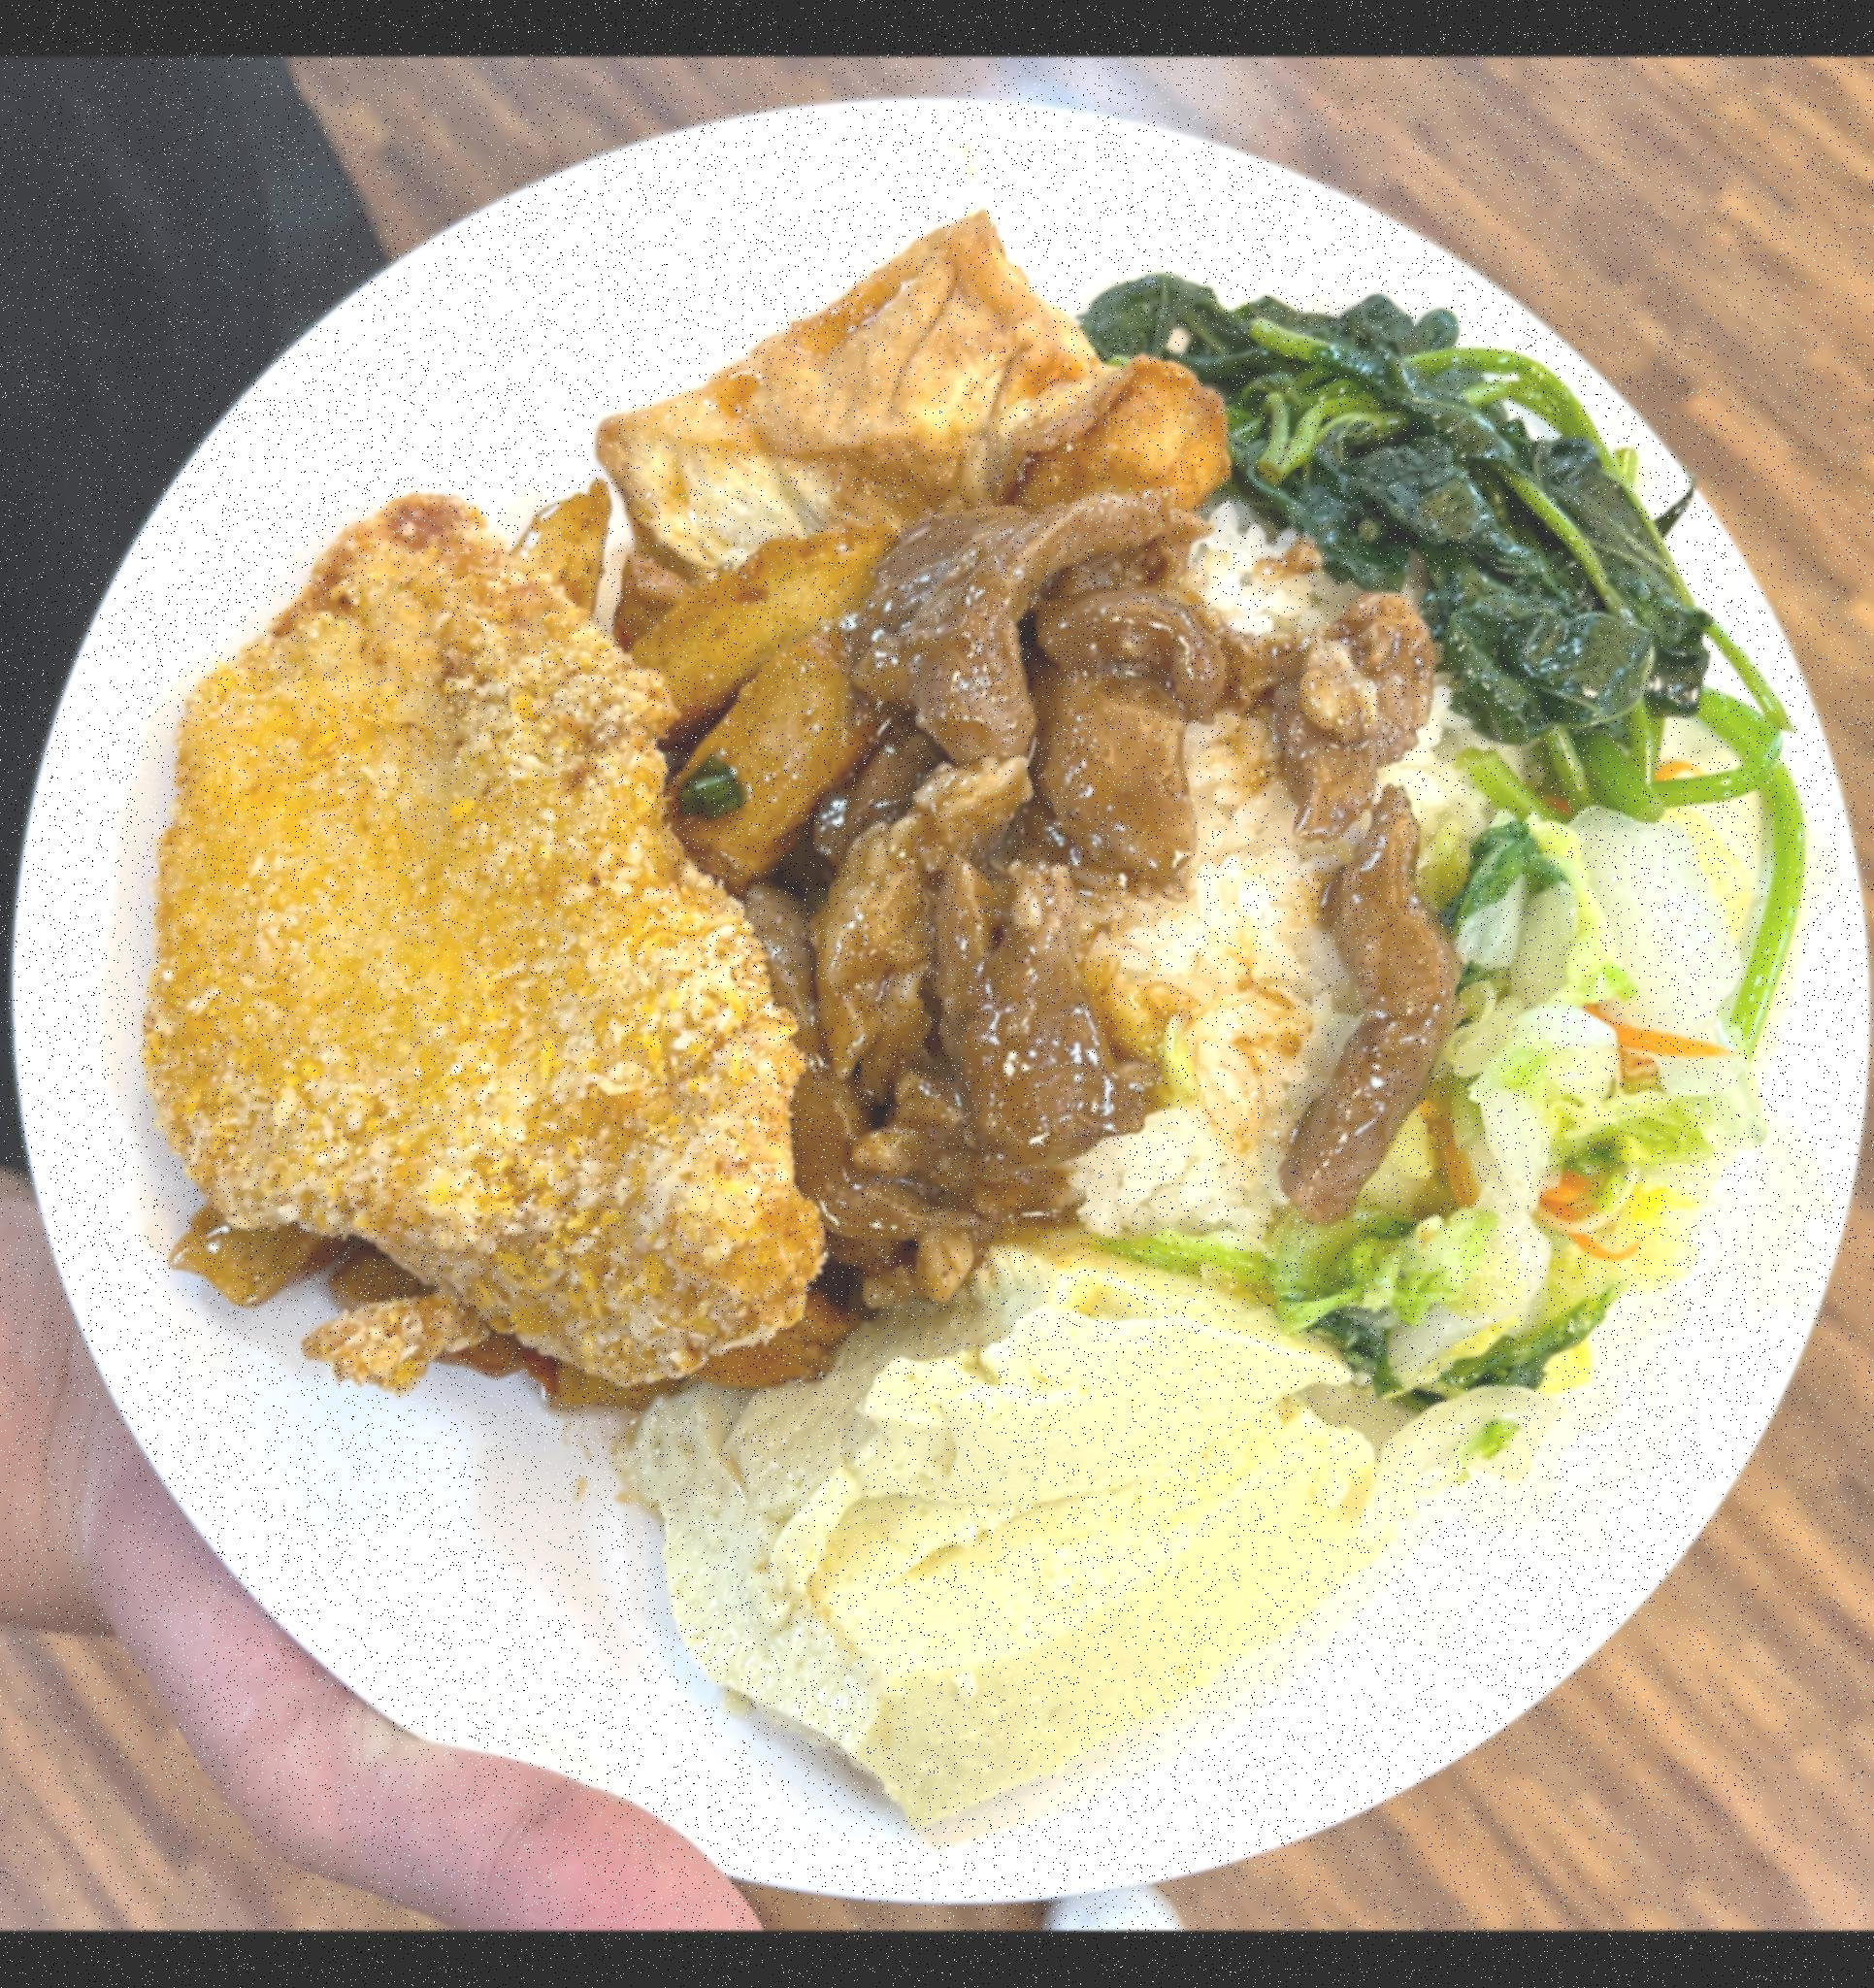big fried chicken leg: (0, 58, 1874, 1873)
big herbal chicken leg: (992, 490, 1467, 1294)
braised fish fillet: (606, 1257, 1402, 1829), (1097, 217, 1775, 820), (571, 217, 1279, 700), (1309, 763, 1805, 1447)
braised pork: (111, 471, 826, 1371), (778, 492, 1427, 1352)
